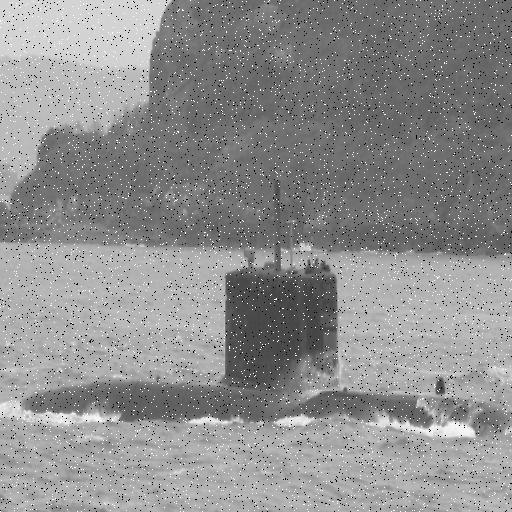submarine: (1, 278, 503, 435)
